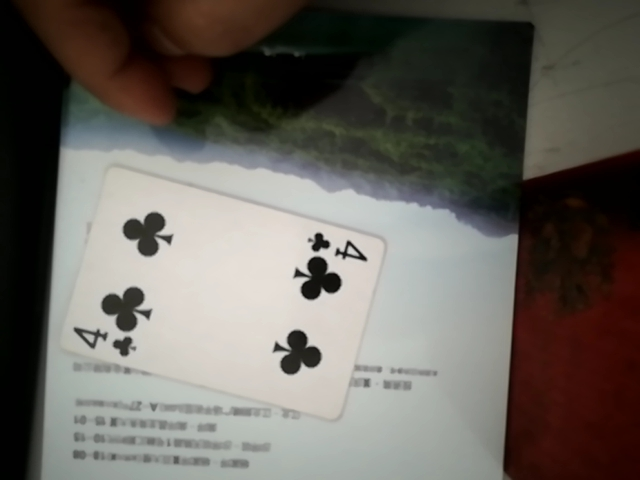mh 4: (56, 159, 384, 417)
